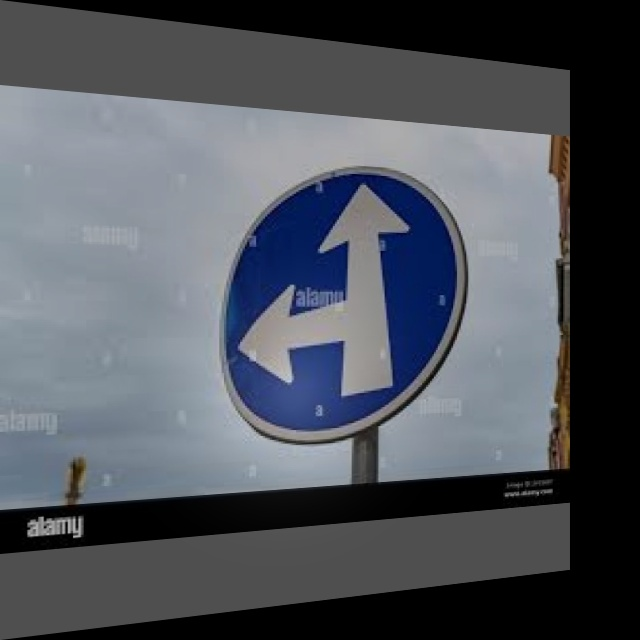Compulsory_Ahead_or_Turn_Left: (227, 159, 464, 441)
